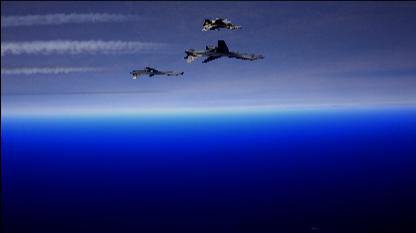AV8B: (181, 39, 264, 62), (128, 67, 184, 78)
F14: (202, 18, 244, 30)
